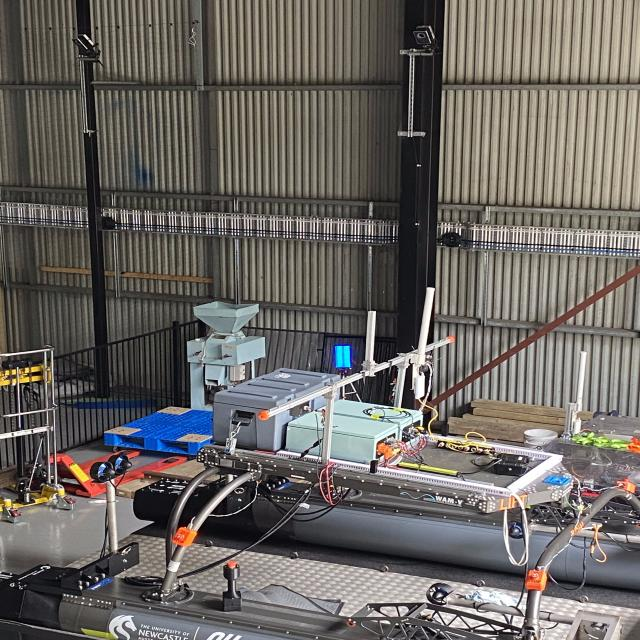matrix: (332, 344, 355, 371)
